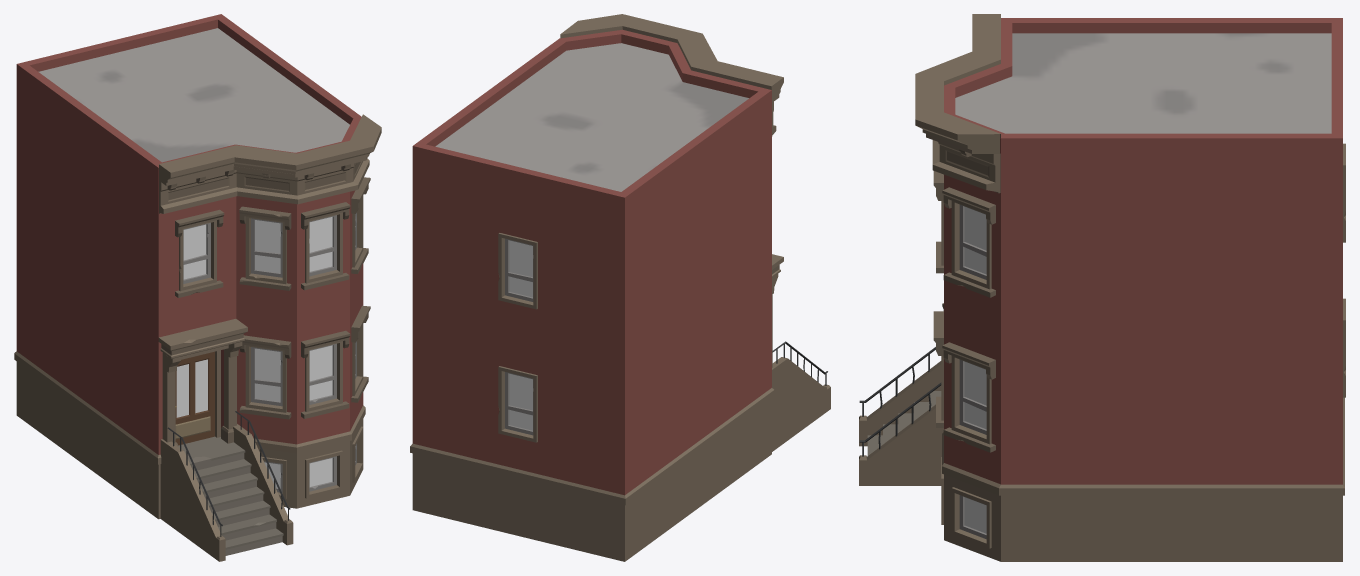
The model's file is SM_Bldg_City_Apartment_T2_2Floor_01.fbx.
3 renders of one model, left to right at view 1: azimuth 30°, elevation 25°; view 2: azimuth 150°, elevation 25°; view 3: azimuth 270°, elevation 25°, orthographic. The views are drawn at different scales.
Parts seen in each view (by area): view 1: SM_Bldg_City_Apartment_T2_2Floor_01, SM_Bldg_City_Apartment_T2_2Floor_01_Glass, SM_Bldg_City_Apartment_T2_2Floor_01_Door; view 2: SM_Bldg_City_Apartment_T2_2Floor_01, SM_Bldg_City_Apartment_T2_2Floor_01_Glass; view 3: SM_Bldg_City_Apartment_T2_2Floor_01, SM_Bldg_City_Apartment_T2_2Floor_01_Glass.
Boxes of the visible parts, left/top/right/bottom form: SM_Bldg_City_Apartment_T2_2Floor_01: left=14, top=14, right=381, bottom=561; SM_Bldg_City_Apartment_T2_2Floor_01_Glass: left=183, top=217, right=332, bottom=488; SM_Bldg_City_Apartment_T2_2Floor_01_Door: left=175, top=351, right=214, bottom=445; SM_Bldg_City_Apartment_T2_2Floor_01: left=410, top=14, right=830, bottom=561; SM_Bldg_City_Apartment_T2_2Floor_01_Glass: left=509, top=240, right=533, bottom=430; SM_Bldg_City_Apartment_T2_2Floor_01: left=859, top=14, right=1345, bottom=561; SM_Bldg_City_Apartment_T2_2Floor_01_Glass: left=964, top=207, right=986, bottom=533.
Size of the model in its own units: 509 by 828 by 854.
